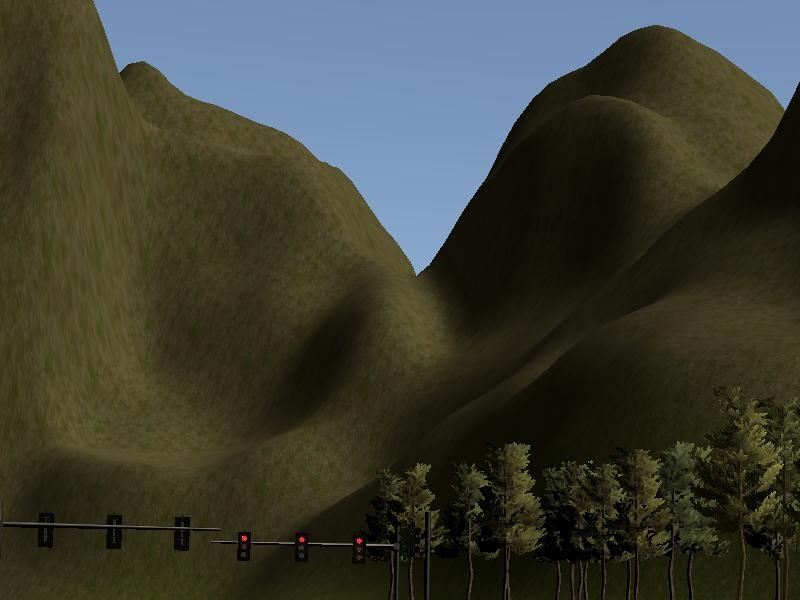red: (238, 532, 252, 562), (296, 531, 310, 561), (353, 534, 367, 564)
